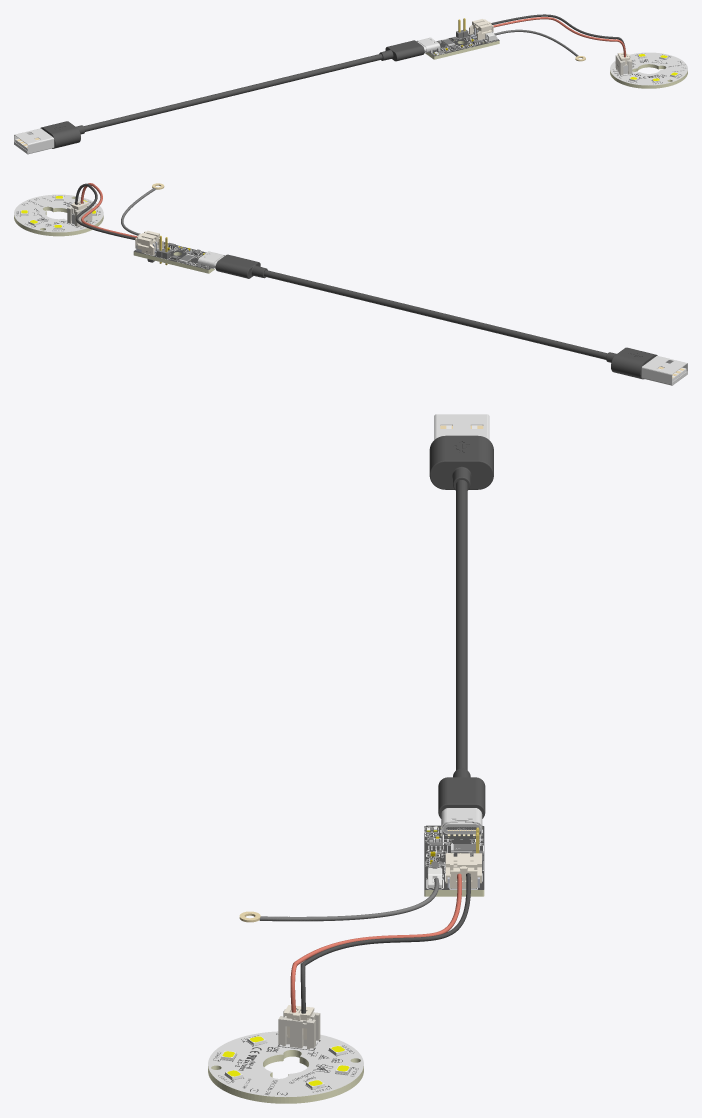
The model's file is 3D_101 assembled.glb.
The picture shows the model from 3 angles, top to bottom: view 1: azimuth 30°, elevation 25°; view 2: azimuth 150°, elevation 25°; view 3: azimuth 270°, elevation 25°; orthographic projection. The views are drawn at different scales.
Parts seen in each view (by area): view 1: Node29, Node7, Node14, Node5, Node20, Node32, Node15, Node6, Node31; view 2: Node29, Node7, Node14, Node5, Node20, Node15, Node32; view 3: Node29, Node7, Node5, Node14, Node20, Node15, Node31, Node32, Node6.
Part boxes in pixels (x1,y1,x2,y2): Node29: (40,40,424,148); Node7: (14,37,687,154); Node14: (425,39,687,88); Node5: (429,33,679,83); Node20: (469,19,629,64); Node32: (493,17,625,57); Node15: (491,14,685,77); Node6: (437,29,578,56); Node31: (615,54,632,75); Node29: (215,254,657,379); Node7: (14,194,687,385); Node14: (14,196,215,273); Node5: (20,196,210,269); Node20: (71,200,163,255); Node15: (16,183,136,239); Node32: (80,183,137,237); Node29: (429,435,493,818); Node7: (208,414,489,1097); Node5: (213,825,484,1089); Node14: (208,827,484,1103); Node20: (284,853,481,1039); Node15: (219,873,470,1095); Node31: (278,1009,320,1048); Node32: (290,873,461,1012); Node6: (259,823,480,921).
Size of the model in its own units: 311 by 25.1 by 62.29.
